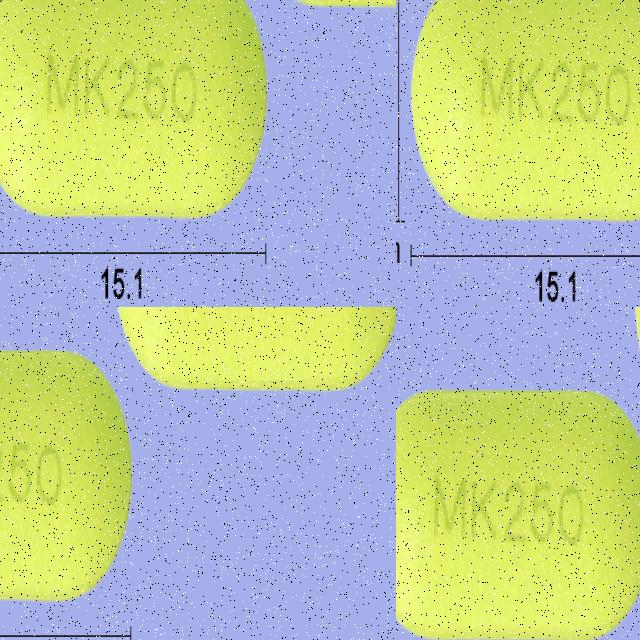Cefixime Cap- Withus: (503, 89, 640, 307)
Ciracle: (168, 307, 343, 492), (0, 307, 46, 485)
Clarithromycin Tab- LGCI: (0, 0, 271, 219)
Craycin - 500mg: (396, 388, 640, 640)
